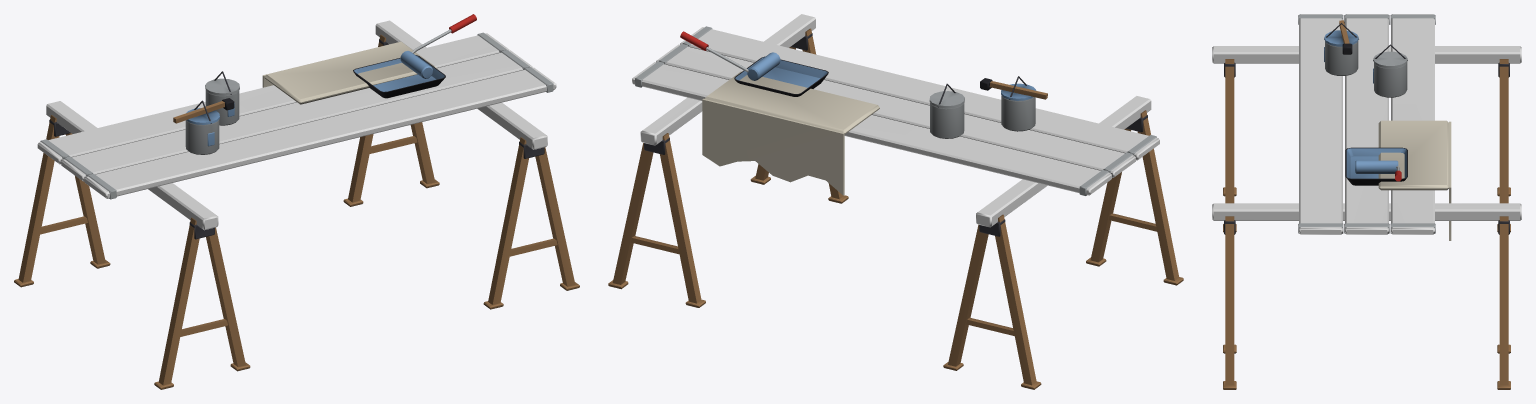
File: PlankTrestles.fbx
3 renders of one model, left to right at view 1: azimuth 30°, elevation 25°; view 2: azimuth 150°, elevation 25°; view 3: azimuth 270°, elevation 25°, orthographic. The views are drawn at different scales.
Visible parts, largest first — view 1: PlankTrestles; view 2: PlankTrestles; view 3: PlankTrestles.
Boxes of the visible parts, x1,y1,x2,y2 form: PlankTrestles: (14,14,579,389); PlankTrestles: (608,14,1183,389); PlankTrestles: (1212,14,1521,389).
Bounding box in the file's own units: 2.6 × 1.22 × 1.58.
